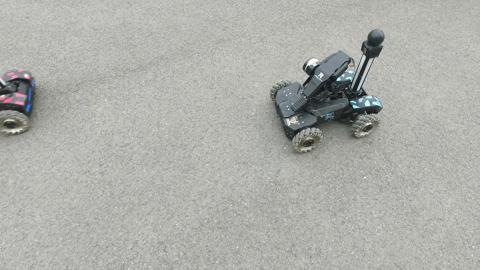chariot: (263, 23, 396, 157)
